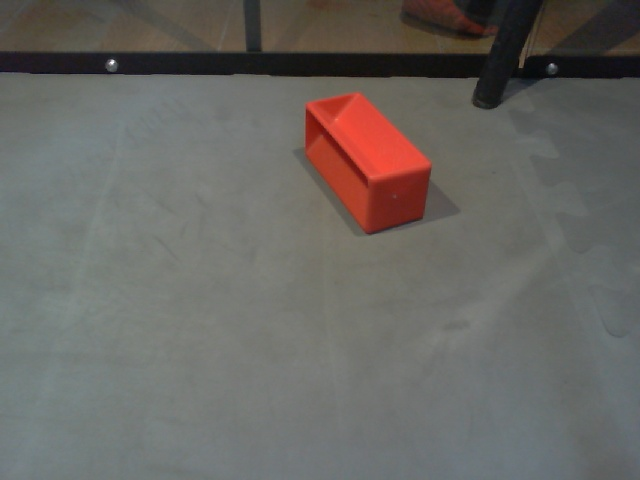RedSample: (301, 91, 433, 237)
